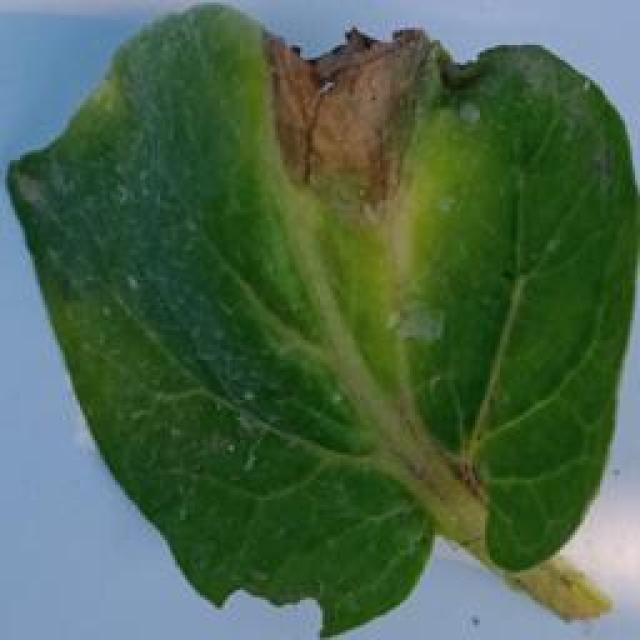Potato_Late_Blight: (10, 13, 618, 620)
